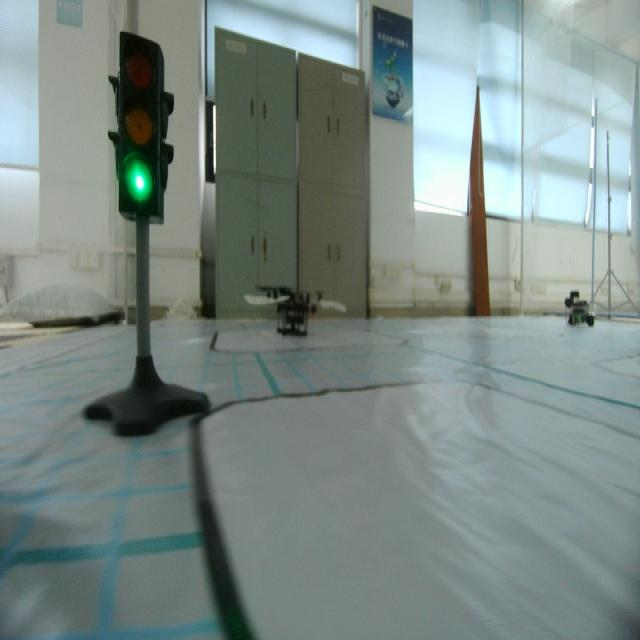green: (107, 28, 175, 230)
